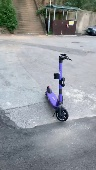beam: (44, 52, 77, 123)
